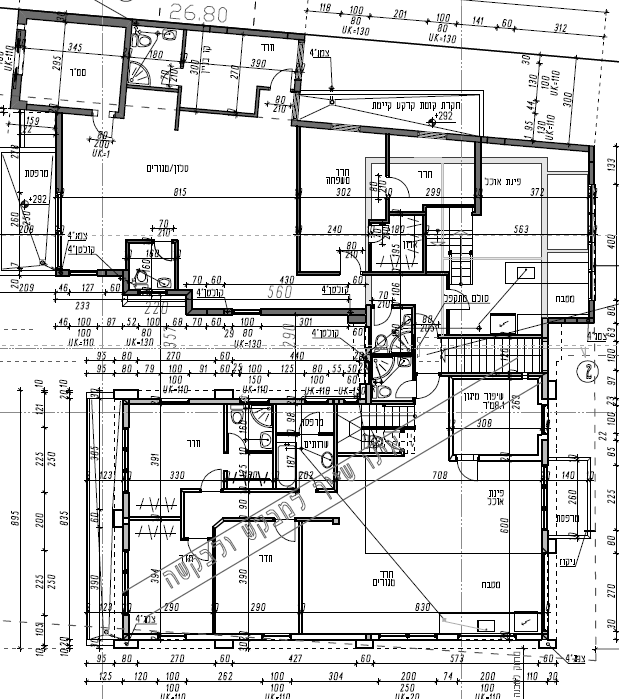door: (332, 243, 368, 279), (450, 454, 482, 487), (268, 65, 300, 98), (92, 108, 120, 145), (440, 287, 478, 314), (412, 308, 442, 340), (412, 370, 444, 399), (384, 172, 412, 204), (196, 466, 224, 496), (156, 65, 187, 91), (149, 235, 174, 267), (396, 379, 423, 404)
wall: (14, 5, 157, 40), (485, 132, 602, 162), (292, 134, 308, 279), (49, 101, 69, 192)
window: (583, 181, 602, 311), (51, 186, 67, 276), (117, 422, 134, 499), (371, 630, 444, 645), (121, 545, 133, 626), (292, 36, 309, 86), (327, 117, 363, 140), (413, 125, 452, 144), (287, 88, 303, 127), (227, 306, 267, 321), (67, 265, 99, 282), (157, 630, 188, 643), (259, 632, 290, 645)
